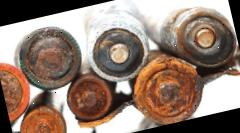electronic: (73, 0, 168, 91)
